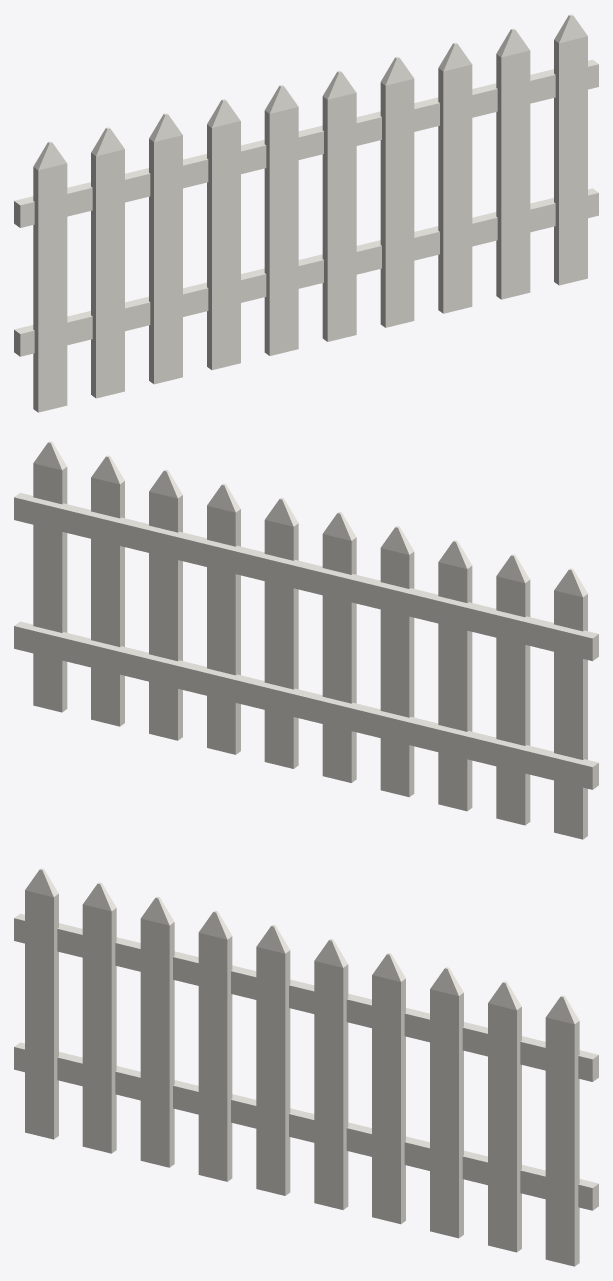
Rendered from PRP_Fence.fbx.
The picture shows the model from 3 angles, top to bottom: view 1: azimuth 30°, elevation 25°; view 2: azimuth 150°, elevation 25°; view 3: azimuth 330°, elevation 25°; orthographic projection.
Visible parts, largest first — view 1: PRP_Fence; view 2: PRP_Fence; view 3: PRP_Fence.
Part boxes in pixels (x1,y1,x2,y2): PRP_Fence: (14, 14, 598, 412); PRP_Fence: (14, 441, 598, 839); PRP_Fence: (14, 868, 598, 1266).
Size of the model in its own units: 8 by 3.5 by 0.235.
